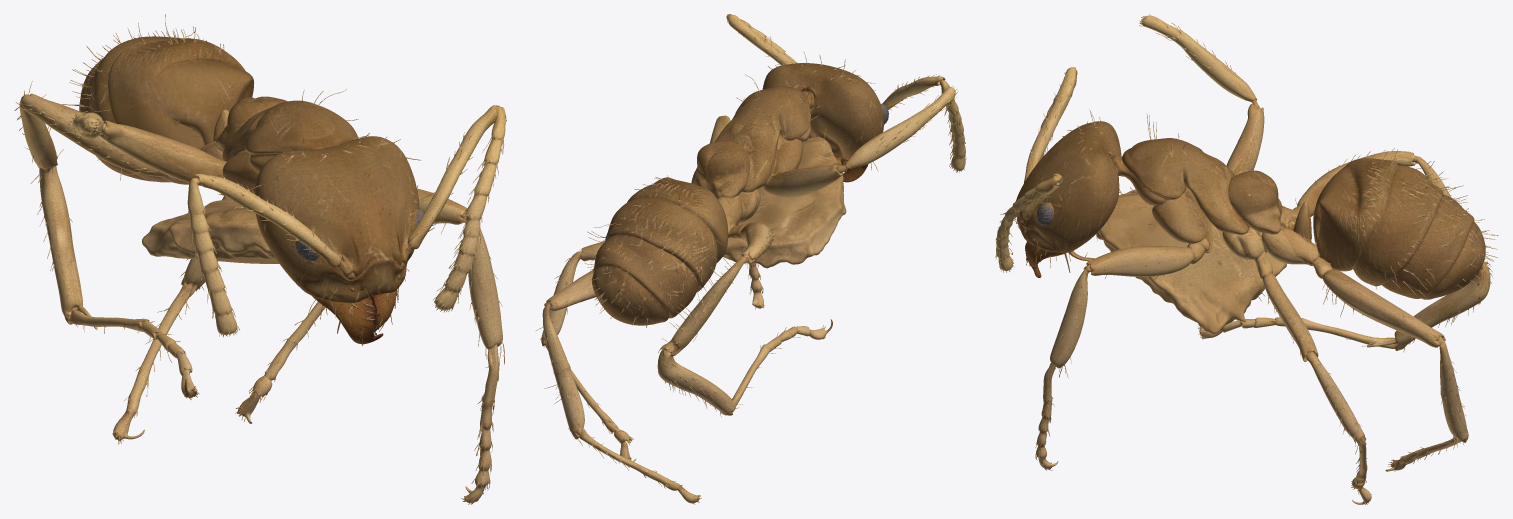
File: esp5.glb
3 renders of one model, left to right at view 1: azimuth 30°, elevation 25°; view 2: azimuth 150°, elevation 25°; view 3: azimuth 270°, elevation 25°, orthographic. The views are drawn at different scales.
Bounding box in the file's own units: 1.46 × 1.6 × 1.9.
Materials: 1 (1 with a texture image).
